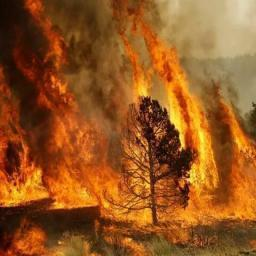Heavy smoke: (10, 2, 134, 167)
Large fire: (0, 0, 256, 256)
